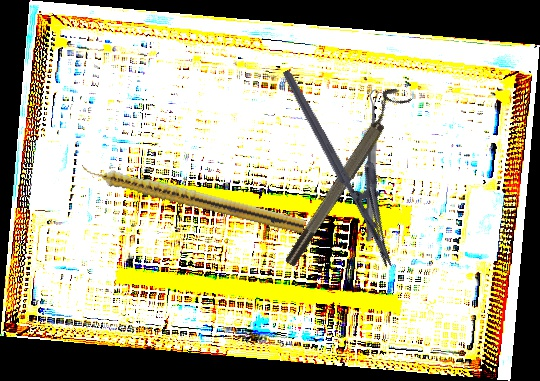Fixation Ring: (274, 83, 412, 270)
Handpiece: (78, 159, 308, 235)
Needle Holder: (280, 55, 421, 269)
Surgical Spoon: (364, 88, 380, 243)
